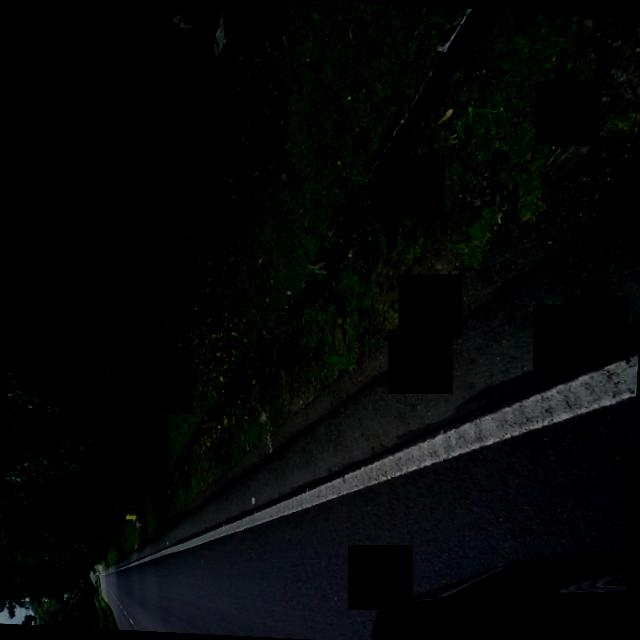DITCH: (97, 0, 640, 601)
